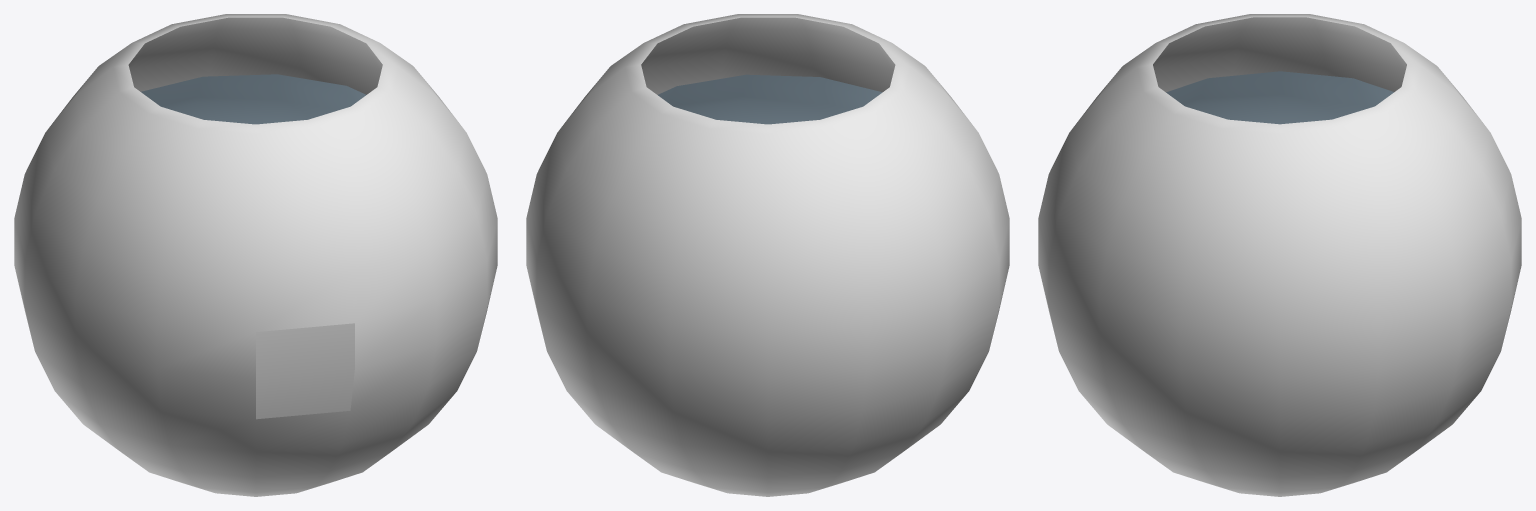
Rendered from vissenkom.fbx.
The picture shows the model from 3 angles, left to right: view 1: azimuth 30°, elevation 25°; view 2: azimuth 150°, elevation 25°; view 3: azimuth 270°, elevation 25°; orthographic projection.
Parts seen in each view (by area): view 1: pSphere1, pSphere2; view 2: pSphere1, pSphere2; view 3: pSphere1, pSphere2.
Part boxes in pixels (x1,y1,x2,y2): pSphere1: [14, 14, 497, 496]; pSphere2: [141, 74, 366, 124]; pSphere1: [526, 14, 1009, 496]; pSphere2: [658, 74, 882, 124]; pSphere1: [1038, 14, 1521, 496]; pSphere2: [1166, 71, 1393, 124].
Bounding box in the file's own units: 0.7645 × 0.7083 × 0.7688.
